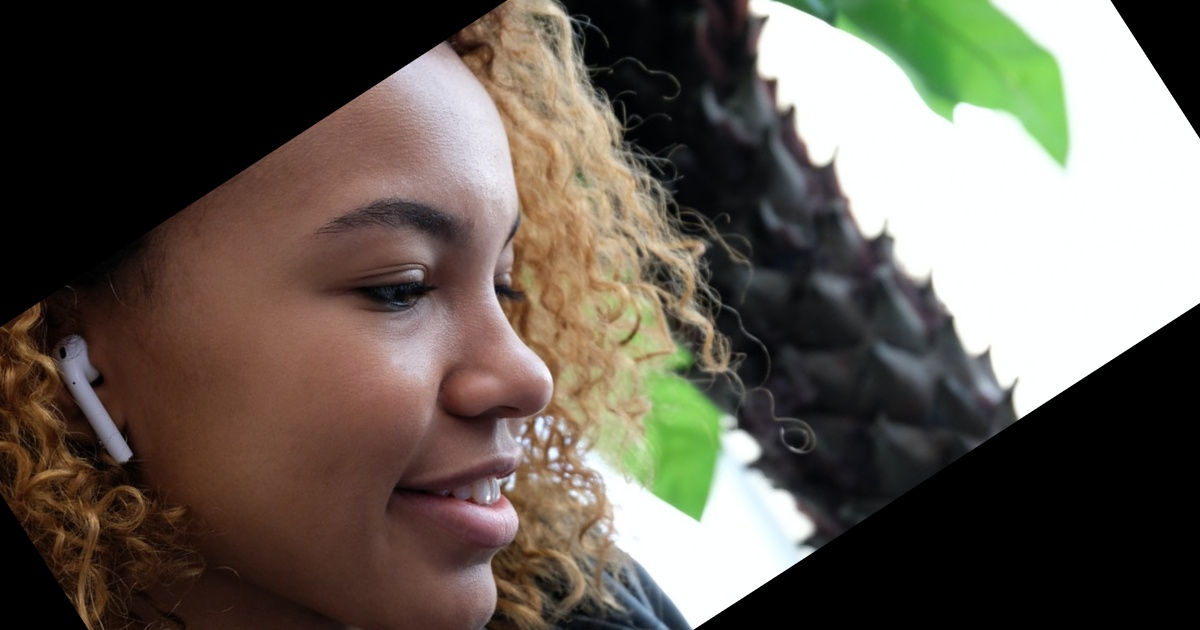earphone: (0, 284, 168, 486)
